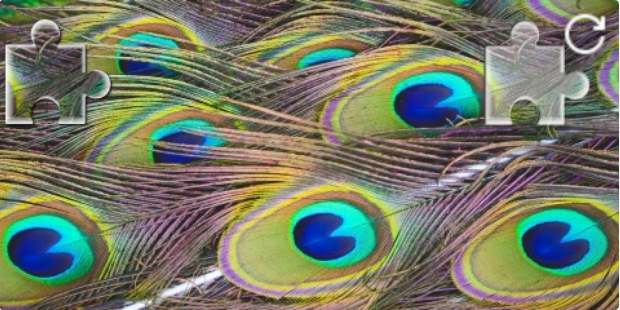target: (484, 20, 589, 125)
